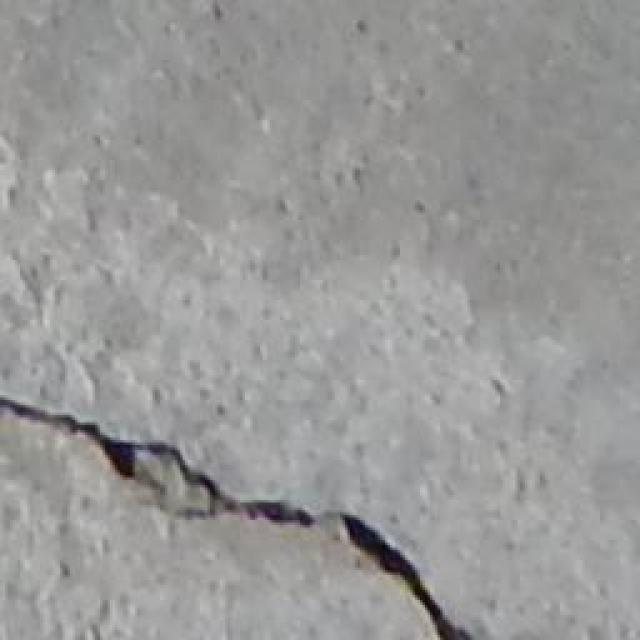concrete-crack: (0, 390, 482, 640)
